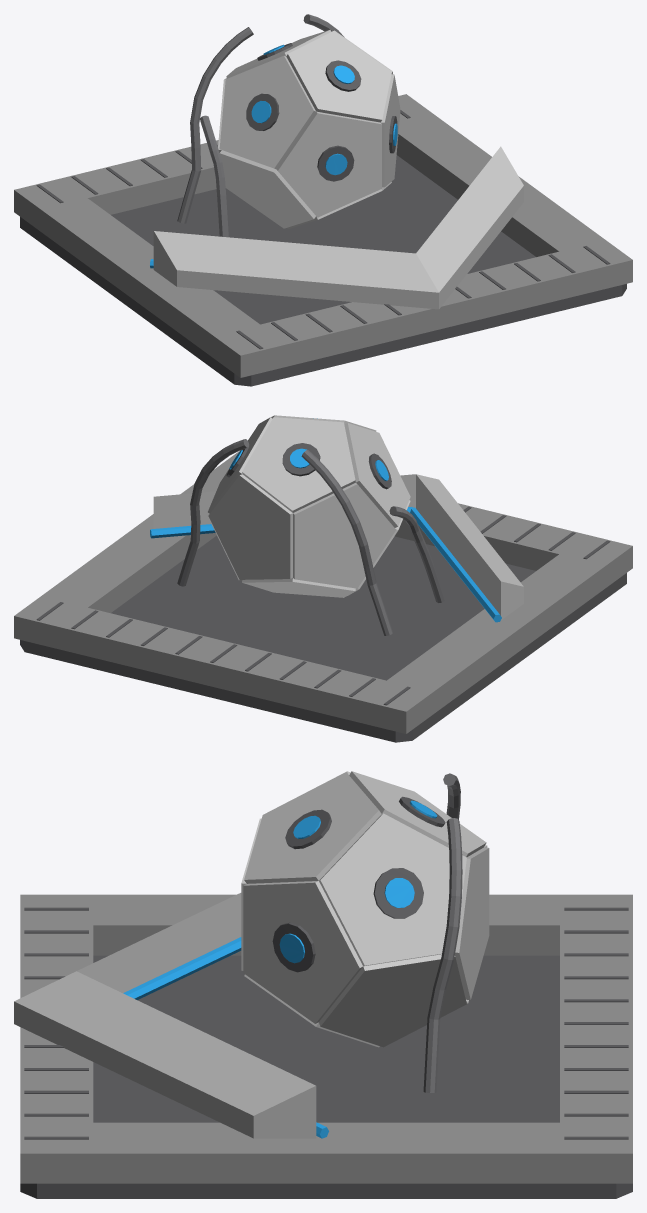
Rendered from vge_warcomputer.obj.
3 renders of one model, top to bottom at view 1: azimuth 30°, elevation 25°; view 2: azimuth 150°, elevation 25°; view 3: azimuth 270°, elevation 25°, orthographic. The views are drawn at different scales.
Visible parts, largest first — view 1: vge_warcomputer_0, vge_warcomputer_1, vge_warcomputer_52, vge_warcomputer_3, vge_warcomputer_4, vge_warcomputer_2, vge_warcomputer_53, vge_warcomputer_28, vge_warcomputer_45, vge_warcomputer_38, vge_warcomputer_44, vge_warcomputer_56 (+6 smaller); view 2: vge_warcomputer_0, vge_warcomputer_2, vge_warcomputer_3, vge_warcomputer_4, vge_warcomputer_31, vge_warcomputer_41, vge_warcomputer_35, vge_warcomputer_1, vge_warcomputer_52, vge_warcomputer_45, vge_warcomputer_56, vge_warcomputer_53 (+7 smaller); view 3: vge_warcomputer_0, vge_warcomputer_4, vge_warcomputer_53, vge_warcomputer_2, vge_warcomputer_1, vge_warcomputer_49, vge_warcomputer_32, vge_warcomputer_3, vge_warcomputer_48, vge_warcomputer_38, vge_warcomputer_52, vge_warcomputer_57 (+8 smaller).
Boxes of the visible parts, box(x1,y1,x2,y2) form: vge_warcomputer_0: box(20, 155, 626, 386); vge_warcomputer_1: box(213, 240, 632, 377); vge_warcomputer_52: box(153, 231, 438, 309); vge_warcomputer_3: box(41, 198, 259, 357); vge_warcomputer_4: box(396, 114, 605, 256); vge_warcomputer_2: box(14, 94, 432, 231); vge_warcomputer_53: box(416, 146, 523, 308); vge_warcomputer_28: box(276, 111, 381, 217); vge_warcomputer_45: box(219, 56, 315, 169); vge_warcomputer_38: box(286, 31, 391, 122); vge_warcomputer_44: box(219, 150, 315, 228); vge_warcomputer_56: box(177, 27, 253, 223); vge_warcomputer_0: box(20, 535, 626, 742); vge_warcomputer_2: box(14, 596, 433, 733); vge_warcomputer_3: box(387, 554, 605, 713); vge_warcomputer_4: box(41, 470, 225, 612); vge_warcomputer_31: box(293, 482, 395, 588); vge_warcomputer_41: box(242, 417, 355, 512); vge_warcomputer_35: box(208, 474, 292, 579); vge_warcomputer_1: box(214, 450, 632, 587); vge_warcomputer_52: box(416, 474, 523, 619); vge_warcomputer_45: box(344, 423, 410, 527); vge_warcomputer_56: box(301, 450, 392, 635); vge_warcomputer_53: box(153, 474, 415, 528); vge_warcomputer_0: box(20, 955, 632, 1198); vge_warcomputer_4: box(93, 1122, 559, 1183); vge_warcomputer_53: box(14, 971, 316, 1138); vge_warcomputer_2: box(560, 894, 632, 1183); vge_warcomputer_1: box(20, 894, 93, 1183); vge_warcomputer_49: box(319, 813, 466, 966); vge_warcomputer_32: box(243, 881, 362, 1023); vge_warcomputer_3: box(93, 894, 559, 955); vge_warcomputer_48: box(319, 954, 466, 1047); vge_warcomputer_38: box(244, 772, 381, 883); vge_warcomputer_52: box(77, 893, 241, 993); vge_warcomputer_57: box(423, 818, 462, 1092).
Bounding box in the file's own units: 2.94 × 1.48 × 2.97.
